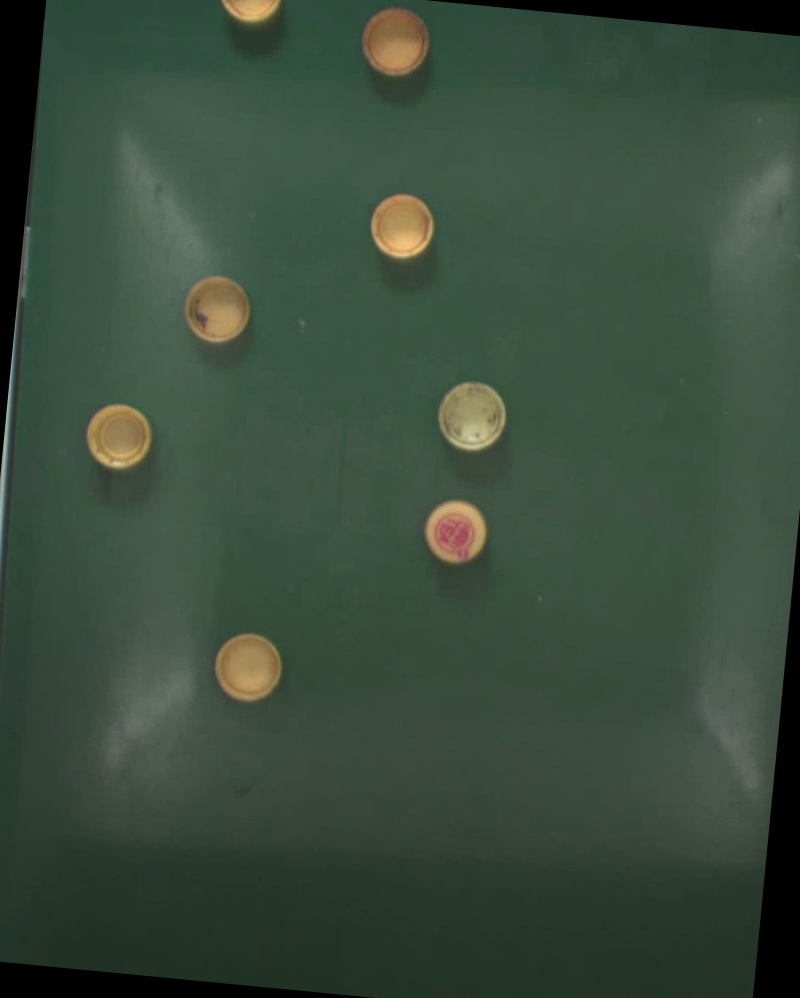Others: (211, 631, 285, 706), (436, 379, 509, 454), (180, 274, 253, 349), (359, 6, 432, 81), (82, 401, 156, 474), (366, 189, 439, 263), (420, 497, 491, 568), (214, 0, 284, 26)
